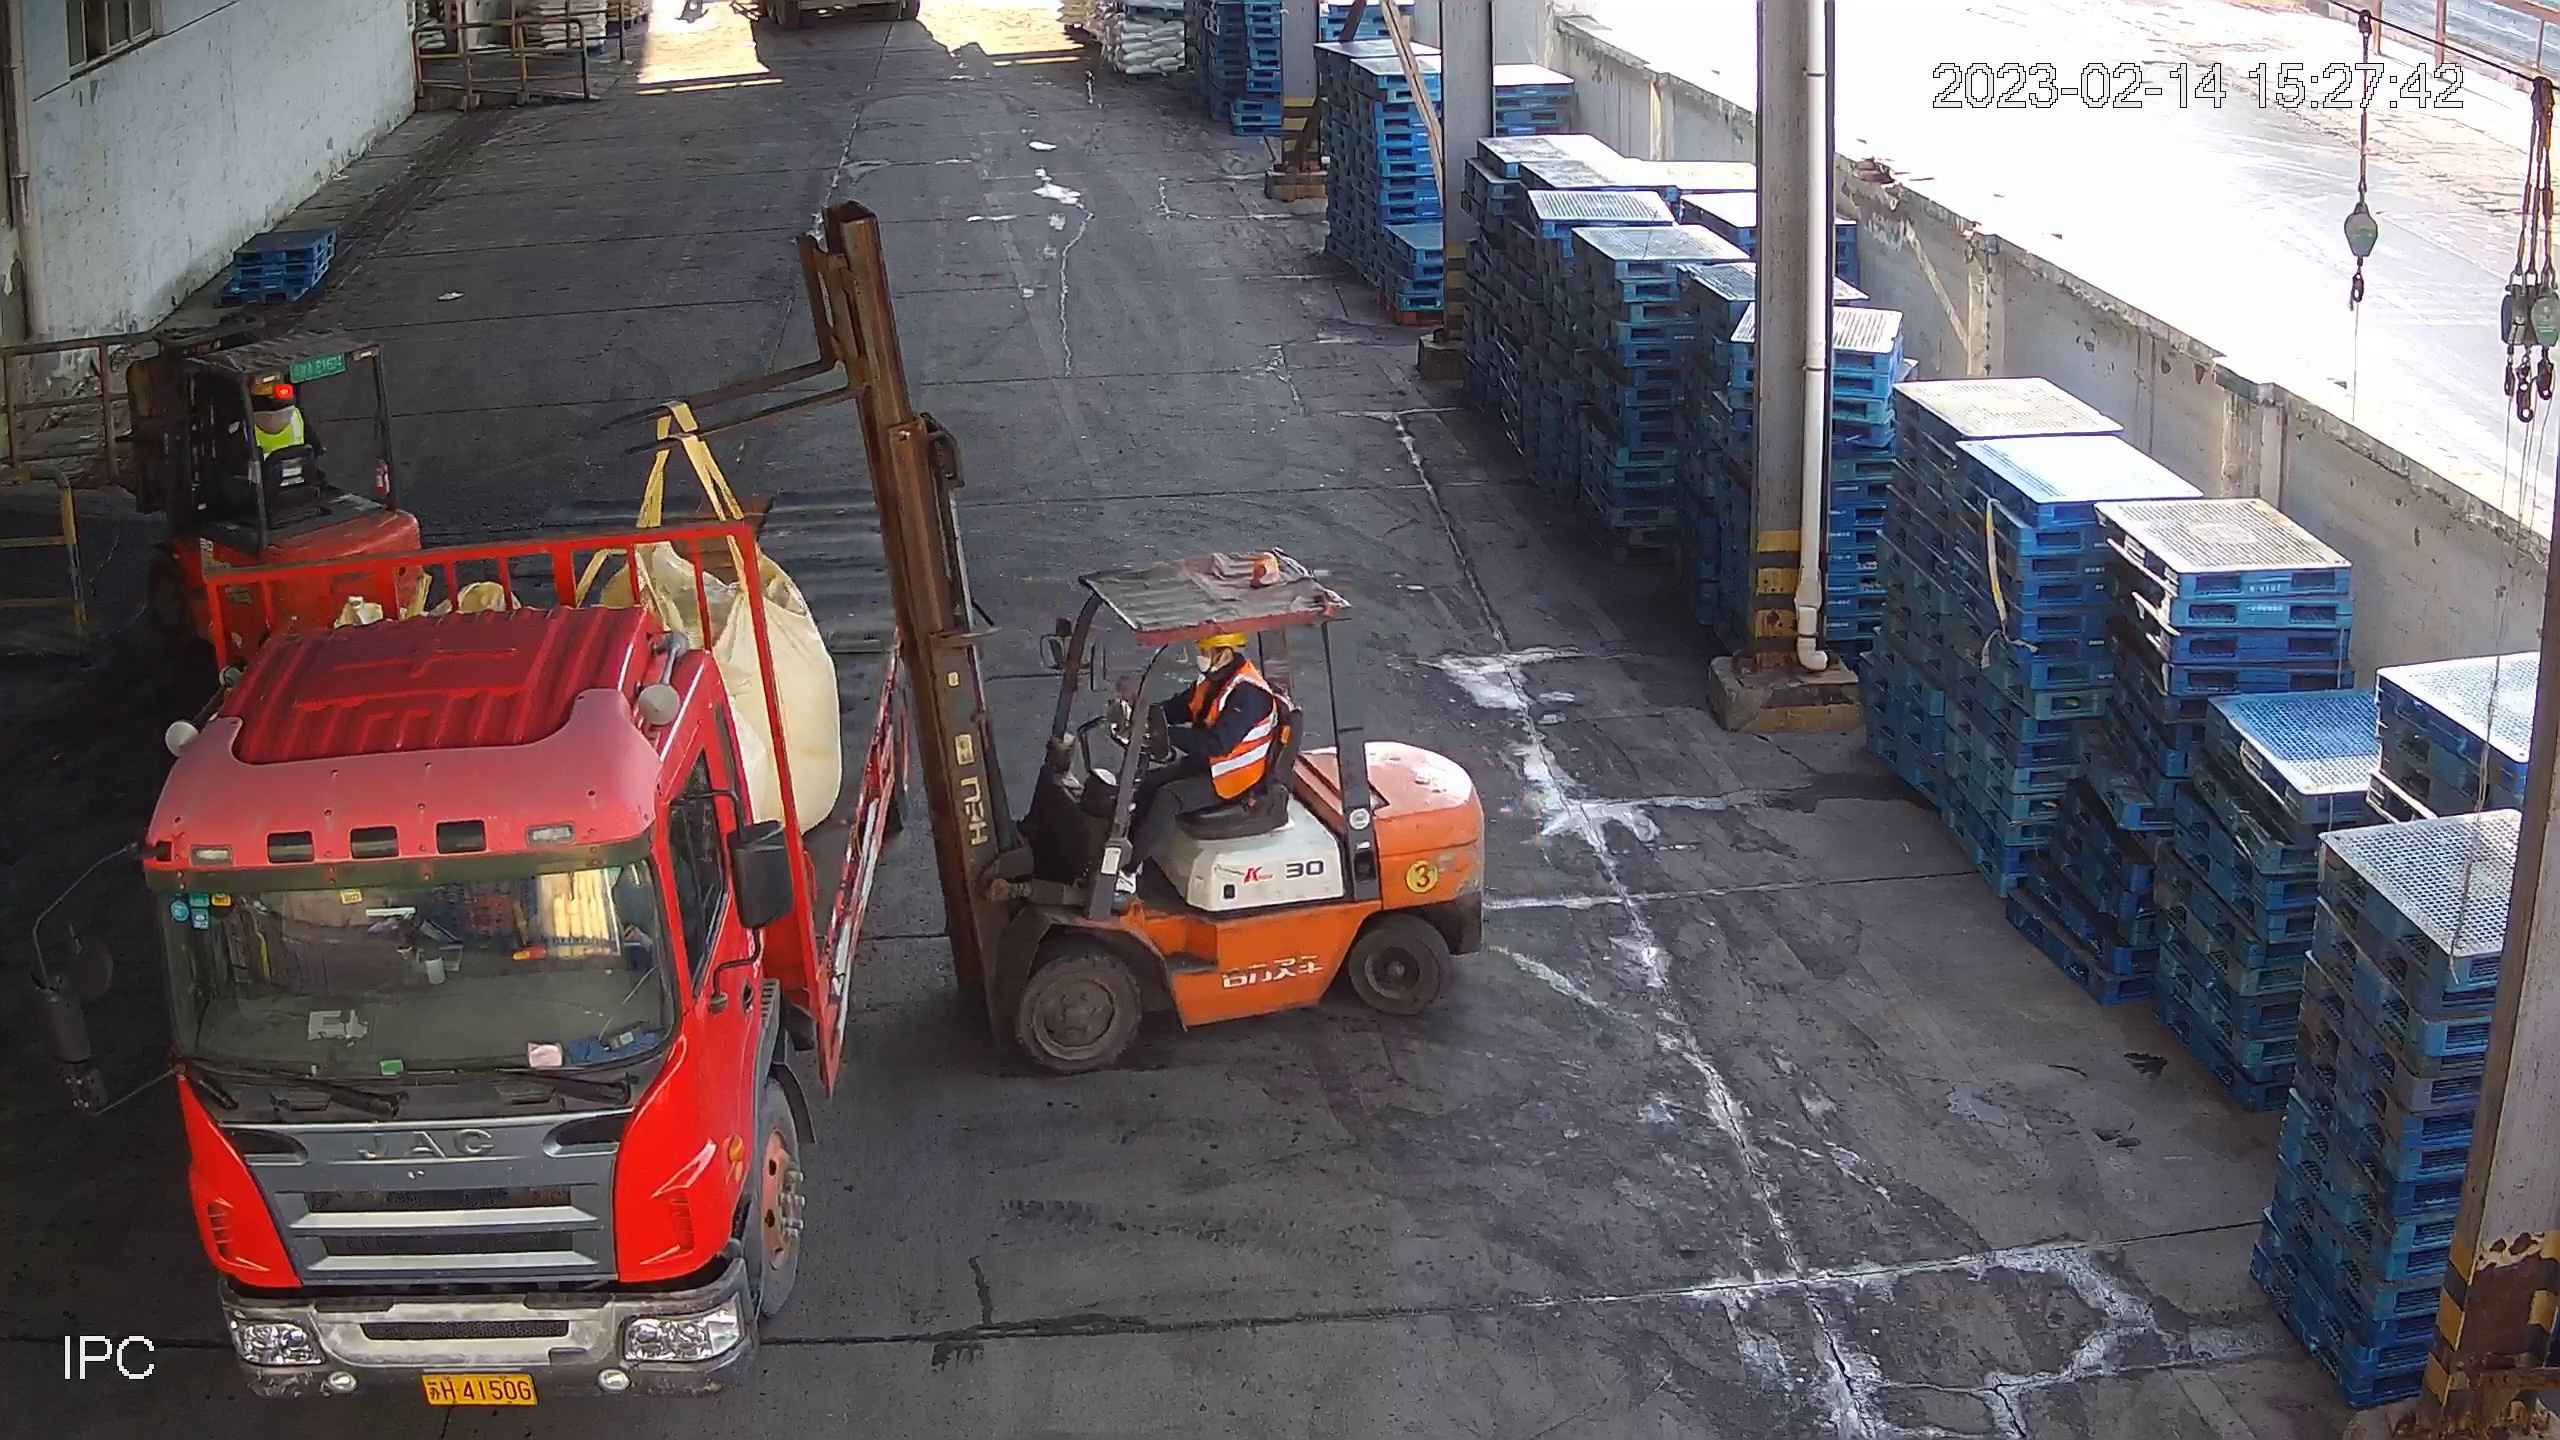head: (1167, 635, 1281, 752)
people: (1118, 630, 1281, 915)
truck: (35, 488, 915, 1409)
